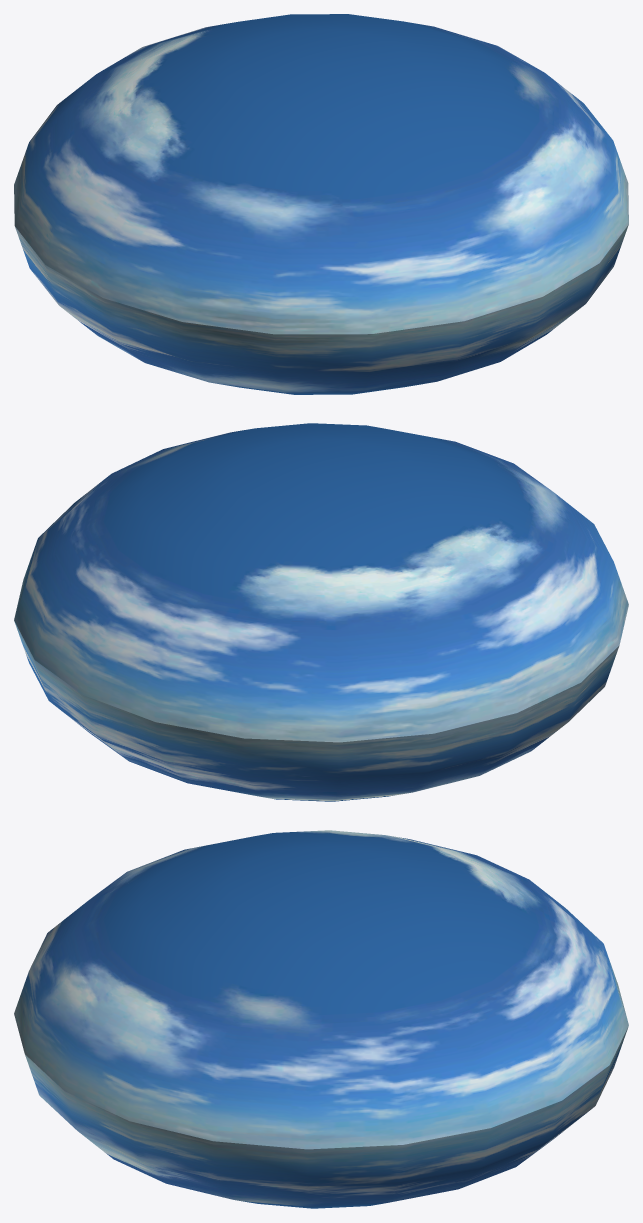
Rendered from g_skay.obj.
3 renders of one model, top to bottom at view 1: azimuth 30°, elevation 25°; view 2: azimuth 150°, elevation 25°; view 3: azimuth 270°, elevation 25°, orthographic.
Parts seen in each view (by area): view 1: skay_0, skay_ref_0; view 2: skay_0, skay_ref_0; view 3: skay_0, skay_ref_0.
Boxes of the visible parts, box(x1,y1,x2,y2) form: skay_0: box(14, 14, 628, 334); skay_ref_0: box(15, 224, 628, 394); skay_0: box(14, 423, 628, 742); skay_ref_0: box(14, 622, 619, 801); skay_0: box(14, 830, 628, 1149); skay_ref_0: box(25, 1027, 628, 1208).
Bounding box in the file's own units: 39960 × 20000 × 39960.
4 materials, 2 textured.
